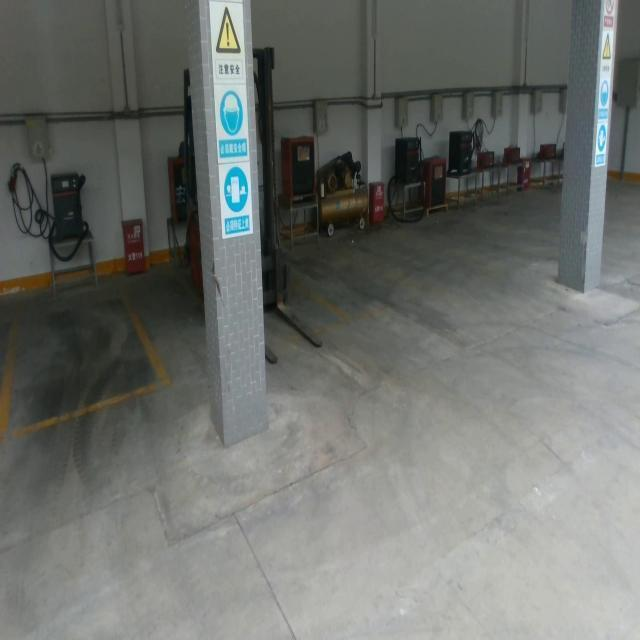forklift: (183, 42, 323, 365)
